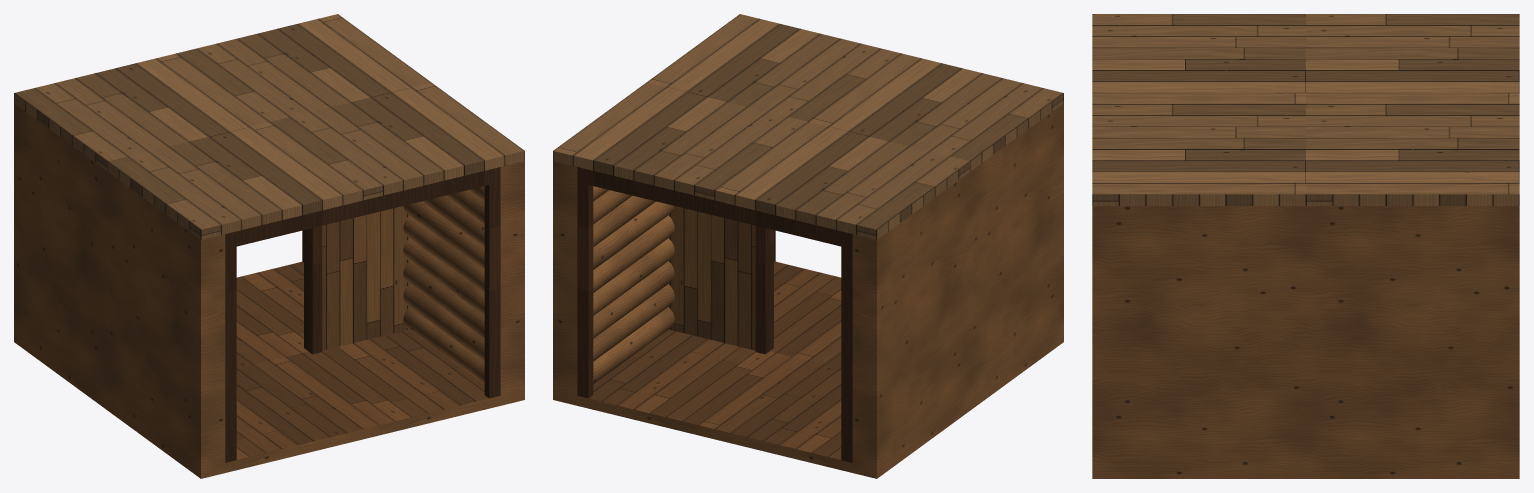
Rendered from Corridor_Cabin_Door_NoLight.glb.
3 views of the same model, side by side, from view 1: azimuth 30°, elevation 25°; view 2: azimuth 150°, elevation 25°; view 3: azimuth 270°, elevation 25° (orthographic). The views are drawn at different scales.
Visible parts, largest first — view 1: Corridor_Cabin_Door_NoLight, Corridor_Cabin_Door_NoLight_Ceiling; view 2: Corridor_Cabin_Door_NoLight, Corridor_Cabin_Door_NoLight_Ceiling; view 3: Corridor_Cabin_Door_NoLight, Corridor_Cabin_Door_NoLight_Ceiling.
Boxes of the visible parts, x1,y1,x2,y2 form: Corridor_Cabin_Door_NoLight: (14,103,524,478); Corridor_Cabin_Door_NoLight_Ceiling: (14,14,524,246); Corridor_Cabin_Door_NoLight: (553,103,1063,478); Corridor_Cabin_Door_NoLight_Ceiling: (553,14,1063,248); Corridor_Cabin_Door_NoLight: (1092,206,1519,478); Corridor_Cabin_Door_NoLight_Ceiling: (1092,14,1519,205).
Size of the model in its own units: 4 by 2.94 by 4.
6 materials, 6 textured.
